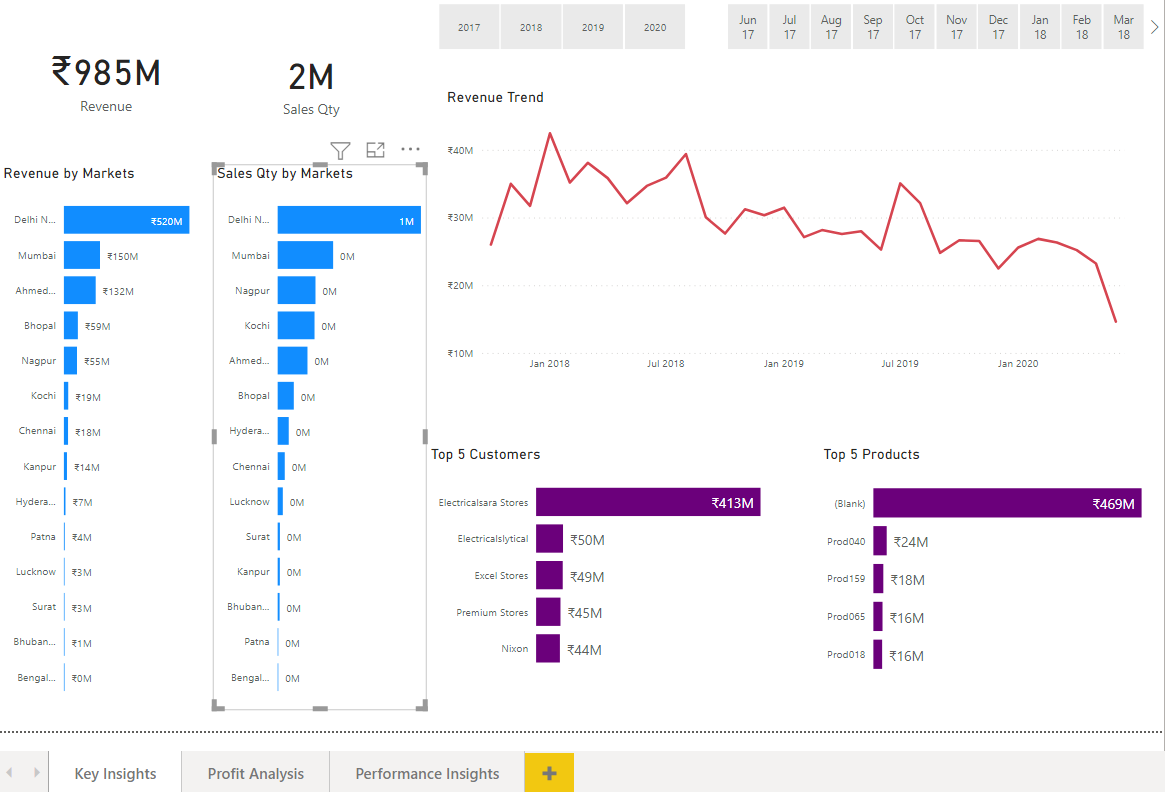

This screenshot's page, from the dashboard's own definition file:
{"tool":"powerbi","page":{"name":"Key Insights","canvas":[1350,850],"ordinal":0},"visuals":[{"type":"card","fields":{"Values":["BaseMeasures (2).Revenue"]},"box":[0,0,247.9,184.6],"z":0},{"type":"card","fields":{"Values":["BaseMeasures (2).Sales Qty"]},"box":[247.9,0,227.9,193.1],"z":1000},{"type":"barChart","title":"Revenue by Markets","fields":{"Y":["BaseMeasures (2).Revenue"],"Category":["sales markets.markets_name"]},"box":[0,193.1,247.9,631.9],"z":2000},{"type":"barChart","title":"Sales Qty by Markets","fields":{"Y":["BaseMeasures (2).Sales Qty"],"Category":["sales markets.markets_name"]},"box":[247.9,193.1,247.9,631.9],"z":3000},{"type":"slicer","fields":{"Values":["sales date.year"]},"box":[483.2,0,335.5,66.5],"z":4000},{"type":"slicer","fields":{"Values":["sales date.cy_date"]},"box":[818.6,0,531.7,66.5],"z":5000},{"type":"barChart","title":"Top 5 Customers","fields":{"Y":["BaseMeasures (2).Revenue"],"Category":["sales customers.custmer_name"]},"box":[495.8,519,446.2,274.3],"z":6000},{"type":"barChart","title":"Top 5 Products","fields":{"Y":["BaseMeasures (2).Revenue"],"Category":["sales products.product_code"]},"box":[950.7,519.2,399.5,282.8],"z":7000},{"type":"lineChart","title":"Revenue Trend","fields":{"Y":["BaseMeasures (2).Revenue"],"Category":["sales date.cy_date"]},"box":[513.8,104.4,809.1,338.6],"z":8000}]}

Visuals, with their boxes on the page's 1350x850 design canvas (x1, y1, x2, y2). These are canvas units, not pixel positions in the 1165x792 screenshot, which may show the page scaled, cropped or inside an application window:
card - BaseMeasures (2).Revenue: x1=0 y1=0 x2=248 y2=185
card - BaseMeasures (2).Sales Qty: x1=248 y1=0 x2=476 y2=193
"Revenue by Markets" barChart: x1=0 y1=193 x2=248 y2=825
"Sales Qty by Markets" barChart: x1=248 y1=193 x2=496 y2=825
slicer - sales date.year: x1=483 y1=0 x2=819 y2=66
slicer - sales date.cy_date: x1=819 y1=0 x2=1350 y2=66
"Top 5 Customers" barChart: x1=496 y1=519 x2=942 y2=793
"Top 5 Products" barChart: x1=951 y1=519 x2=1350 y2=802
"Revenue Trend" lineChart: x1=514 y1=104 x2=1323 y2=443
